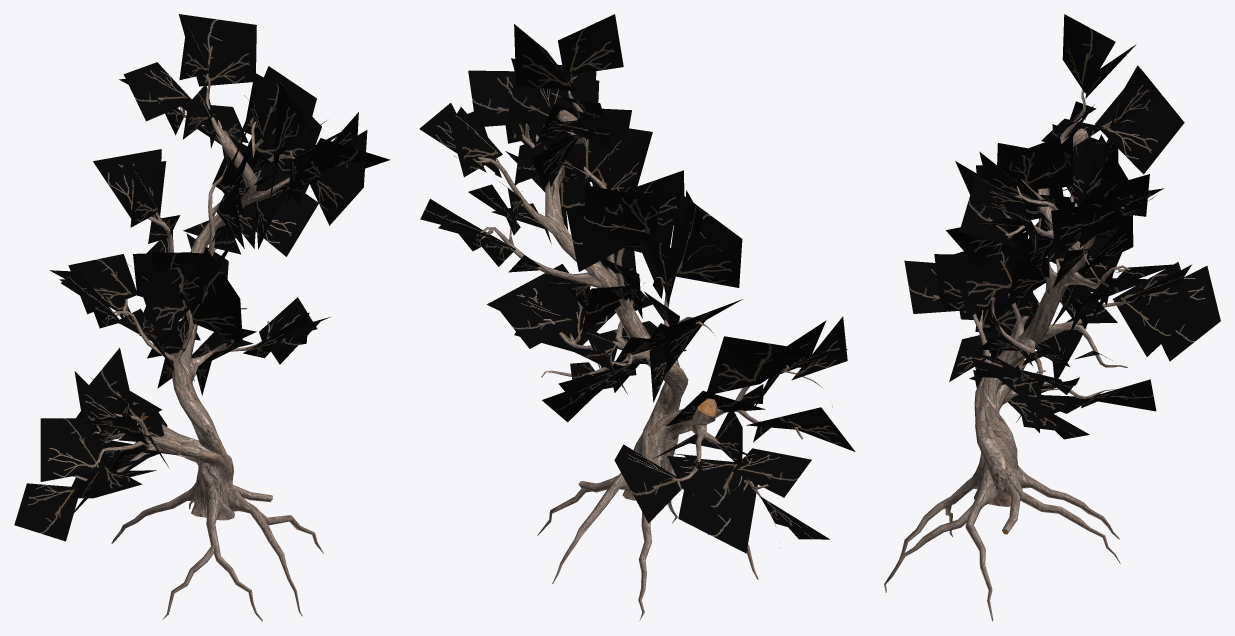
File: dekor_agac.glb
3 renders of one model, left to right at view 1: azimuth 30°, elevation 25°; view 2: azimuth 150°, elevation 25°; view 3: azimuth 270°, elevation 25°, orthographic. The views are drawn at different scales.
Visible parts, largest first — view 1: Tree_2_Tree_2Mat_0, Tree_0_Tree_0Mat_0; view 2: Tree_2_Tree_2Mat_0, Tree_0_Tree_0Mat_0; view 3: Tree_2_Tree_2Mat_0, Tree_0_Tree_0Mat_0.
Part boxes in pixels (bbox=[...]): Tree_2_Tree_2Mat_0: bbox=[14, 14, 390, 541]; Tree_0_Tree_0Mat_0: bbox=[73, 74, 336, 621]; Tree_2_Tree_2Mat_0: bbox=[419, 14, 855, 553]; Tree_0_Tree_0Mat_0: bbox=[454, 51, 832, 620]; Tree_2_Tree_2Mat_0: bbox=[904, 14, 1220, 439]; Tree_0_Tree_0Mat_0: bbox=[884, 89, 1171, 621].
Bounding box in the file's own units: 5.71 × 8.58 × 4.65.
Materials: 3 (3 with a texture image).
